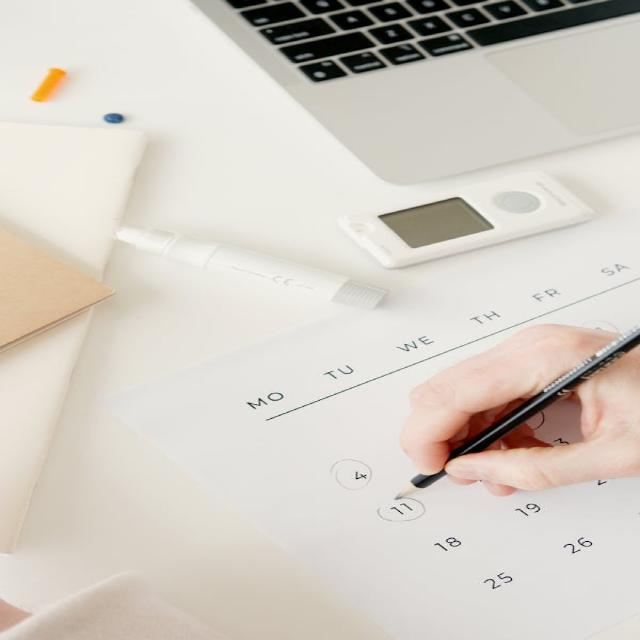pen: (346, 304, 639, 531)
